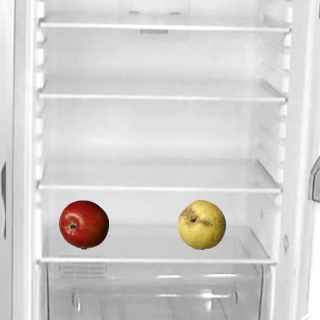Apple Braeburn: (58, 199, 108, 249)
Apple Golden 1: (176, 199, 226, 249)
